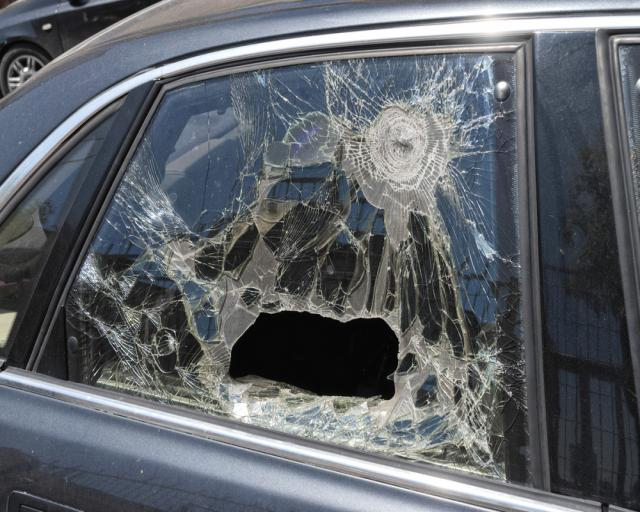glass shatter: (65, 52, 531, 487)
